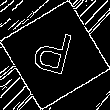P_S: (31, 26, 79, 84)
